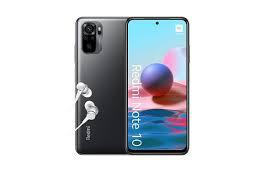Smartphone: (128, 16, 194, 152), (74, 16, 127, 154)
